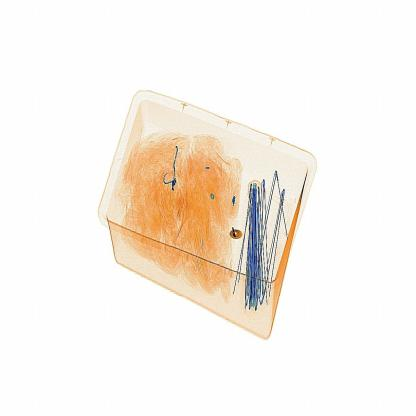wrench: (222, 222, 245, 249)
